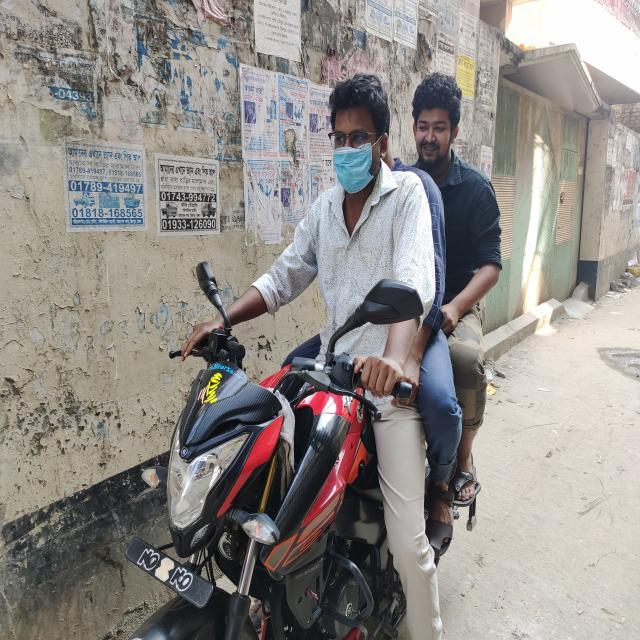Overloading: (174, 45, 544, 625)
